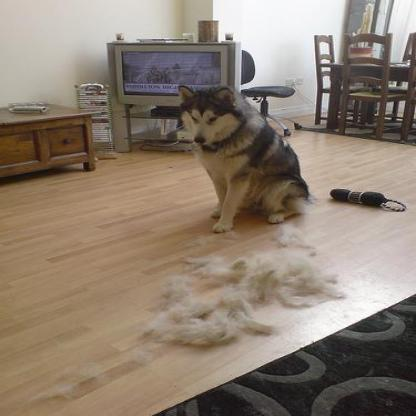malamute: (173, 82, 310, 233)
